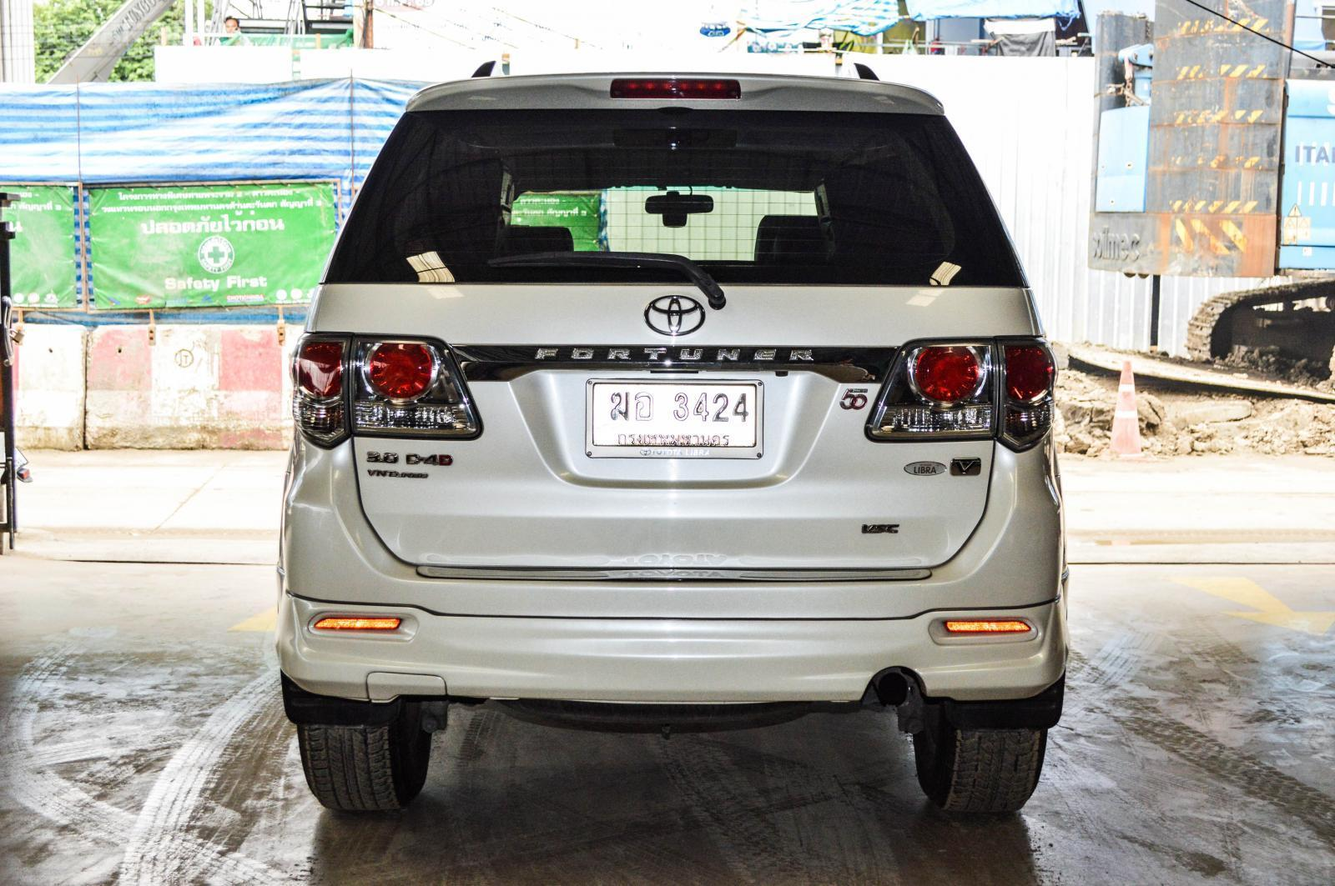license-plate: (583, 376, 763, 469)
